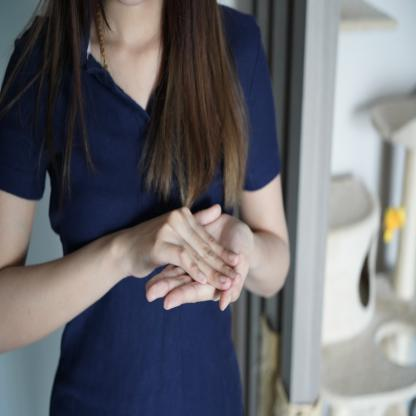Love: (124, 202, 256, 316)
